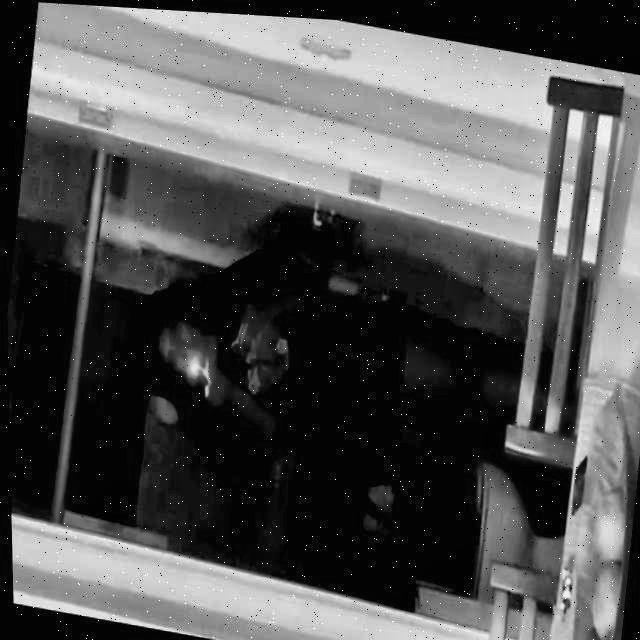Fire: (180, 353, 204, 376)
